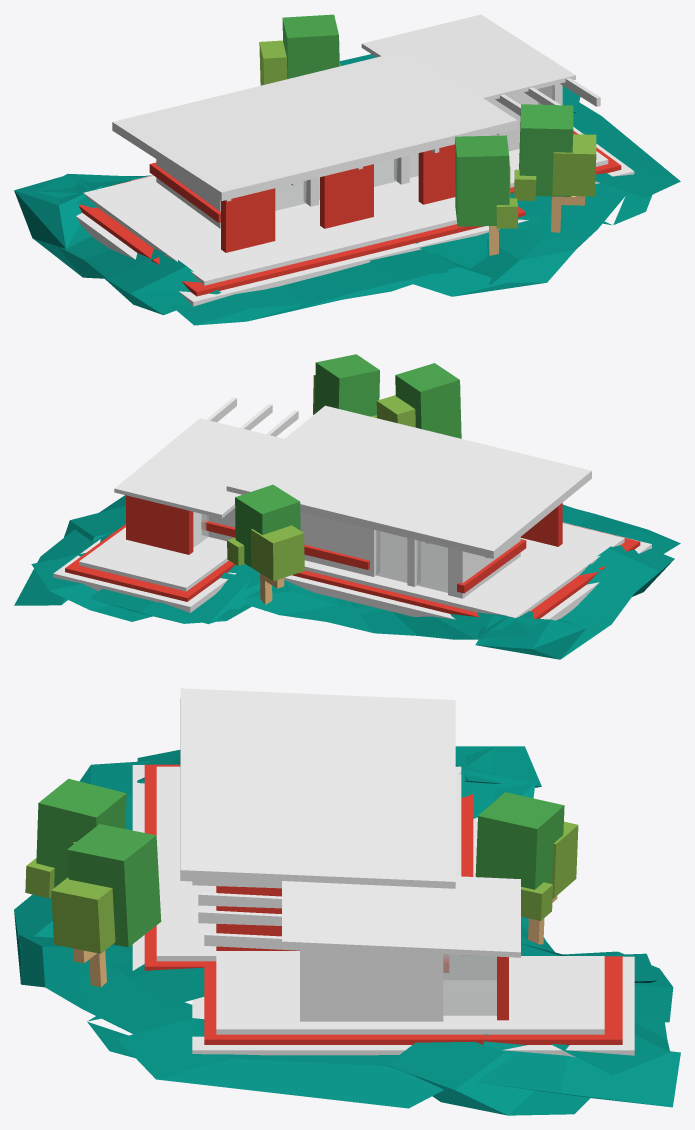
File: concept_home.glb
3 renders of one model, top to bottom at view 1: azimuth 30°, elevation 25°; view 2: azimuth 150°, elevation 25°; view 3: azimuth 270°, elevation 25°, orthographic. The views are drawn at different scales.
Visible parts, largest first — view 1: group119383647, group206241629_a744e5, group1842541181, group2057592469, group1734826660, group1450742739, group497190547_d3afaf, group206241629_8ce250, group1207494087_8affea, group903537568, group1079587454_bbd530, group1207494087_8647bb (+14 smaller); view 2: group119383647, group206241629_a744e5, group1734826660, group2057592469, group52379920_82f86e, group1500376469, group497190547_d3afaf, group1207494087_8affea, group1079587454_bbd530, group1079587454_9a08fc, group206241629_8ce250, group2127225915 (+19 smaller); view 3: group119383647, group52379920_82f86e, group1734826660, group903537568, group1842541181, group206241629_a744e5, group1207494087_8affea, group665006264, group866182509, group52379920_f81f67, group1079587454_bbd530, group497190547_d3afaf (+19 smaller).
Boxes of the visible parts, x1=… form: group119383647: x1=112, y1=50, x2=517, y2=201; group206241629_a744e5: x1=76, y1=153, x2=528, y2=306; group1842541181: x1=369, y1=183, x2=652, y2=296; group2057592469: x1=14, y1=176, x2=221, y2=315; group1734826660: x1=361, y1=14, x2=575, y2=100; group1450742739: x1=169, y1=250, x2=448, y2=325; group497190547_d3afaf: x1=455, y1=135, x2=509, y2=226; group206241629_8ce250: x1=78, y1=175, x2=525, y2=296; group1207494087_8affea: x1=519, y1=104, x2=573, y2=196; group903537568: x1=573, y1=102, x2=680, y2=197; group1079587454_bbd530: x1=282, y1=14, x2=339, y2=78; group1207494087_8647bb: x1=514, y1=134, x2=596, y2=200; group119383647: x1=226, y1=405, x2=591, y2=558; group206241629_a744e5: x1=284, y1=522, x2=651, y2=620; group1734826660: x1=114, y1=418, x2=284, y2=518; group2057592469: x1=475, y1=545, x2=674, y2=659; group52379920_82f86e: x1=53, y1=512, x2=236, y2=612; group1500376469: x1=243, y1=580, x2=533, y2=639; group497190547_d3afaf: x1=395, y1=363, x2=461, y2=438; group1207494087_8affea: x1=314, y1=354, x2=379, y2=416; group1079587454_bbd530: x1=235, y1=484, x2=300, y2=574; group1079587454_9a08fc: x1=227, y1=525, x2=304, y2=581; group206241629_8ce250: x1=292, y1=523, x2=640, y2=618; group2127225915: x1=300, y1=512, x2=369, y2=575; group119383647: x1=180, y1=688, x2=455, y2=888; group52379920_82f86e: x1=192, y1=956, x2=634, y2=1057; group1734826660: x1=282, y1=876, x2=520, y2=957; group903537568: x1=117, y1=1018, x2=443, y2=1108; group1842541181: x1=14, y1=894, x2=192, y2=1058; group206241629_a744e5: x1=132, y1=765, x2=477, y2=970; group1207494087_8affea: x1=67, y1=824, x2=161, y2=947; group665006264: x1=387, y1=1041, x2=590, y2=1115; group866182509: x1=477, y1=1034, x2=680, y2=1107; group52379920_f81f67: x1=204, y1=956, x2=622, y2=1044; group1079587454_bbd530: x1=475, y1=792, x2=564, y2=898; group497190547_d3afaf: x1=36, y1=778, x2=126, y2=887.
Bounding box in the file's own units: 1.35 × 0.3356 × 1.12.
